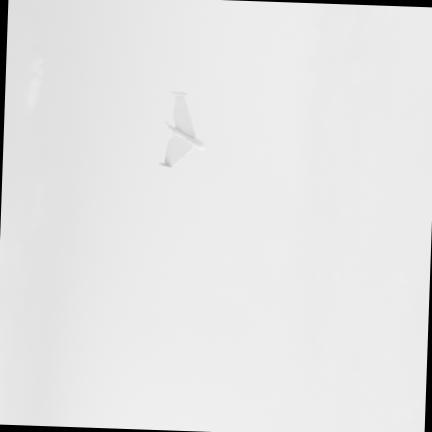Shahed: (156, 90, 207, 168)
